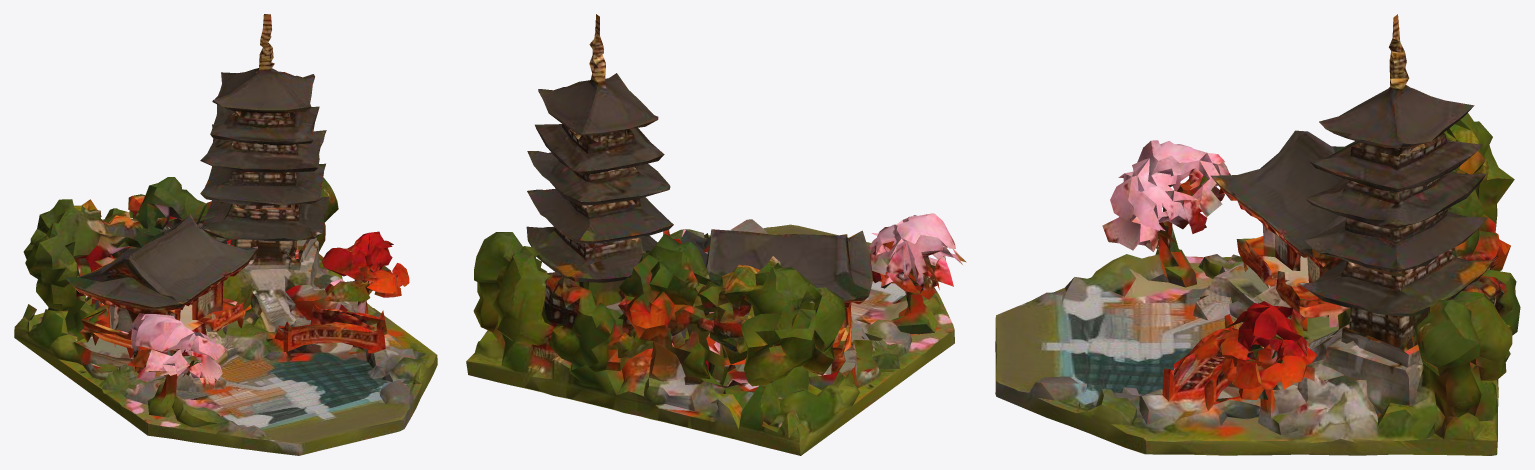
File: daigoji.glb
The picture shows the model from 3 angles, left to right: view 1: azimuth 30°, elevation 25°; view 2: azimuth 150°, elevation 25°; view 3: azimuth 270°, elevation 25°; orthographic projection. The views are drawn at different scales.
Visible parts, largest first — view 1: logan-textured.obj; view 2: logan-textured.obj; view 3: logan-textured.obj.
Boxes of the visible parts, box(x1,y1,x2,y2) form: logan-textured.obj: box(14, 14, 437, 455); logan-textured.obj: box(466, 14, 966, 455); logan-textured.obj: box(995, 14, 1520, 455).
Bounding box in the file's own units: 0.8923 × 0.825 × 1.
1 material, 1 textured.
